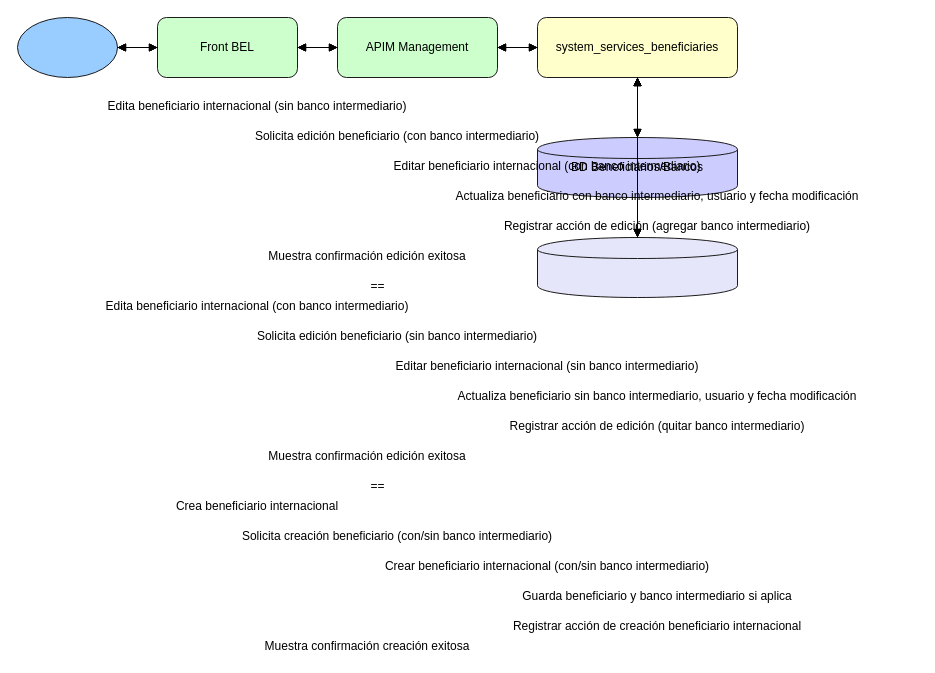
Image size: 935x673. Some labels were removed from this diagram. Each missing label, with the box of its shape:
Log Auditoría: (536, 236, 738, 298)
Usuario BEL: (16, 16, 118, 78)
